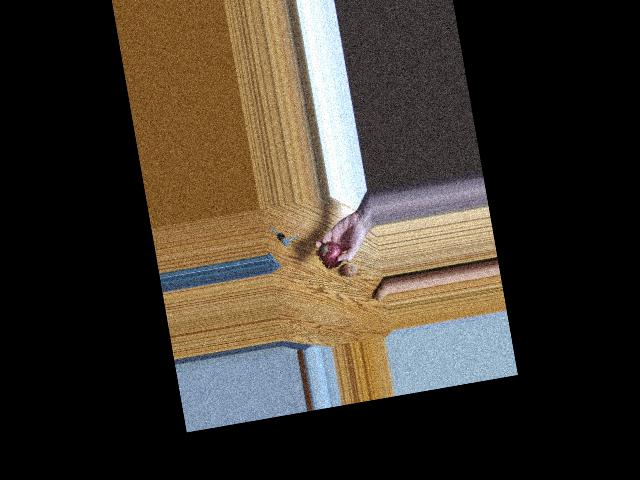onion: (317, 240, 342, 265)
